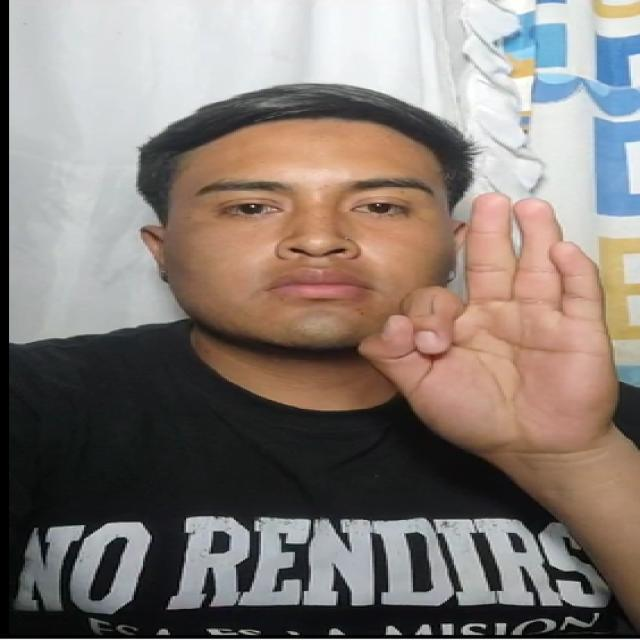F: (356, 192, 630, 461)
